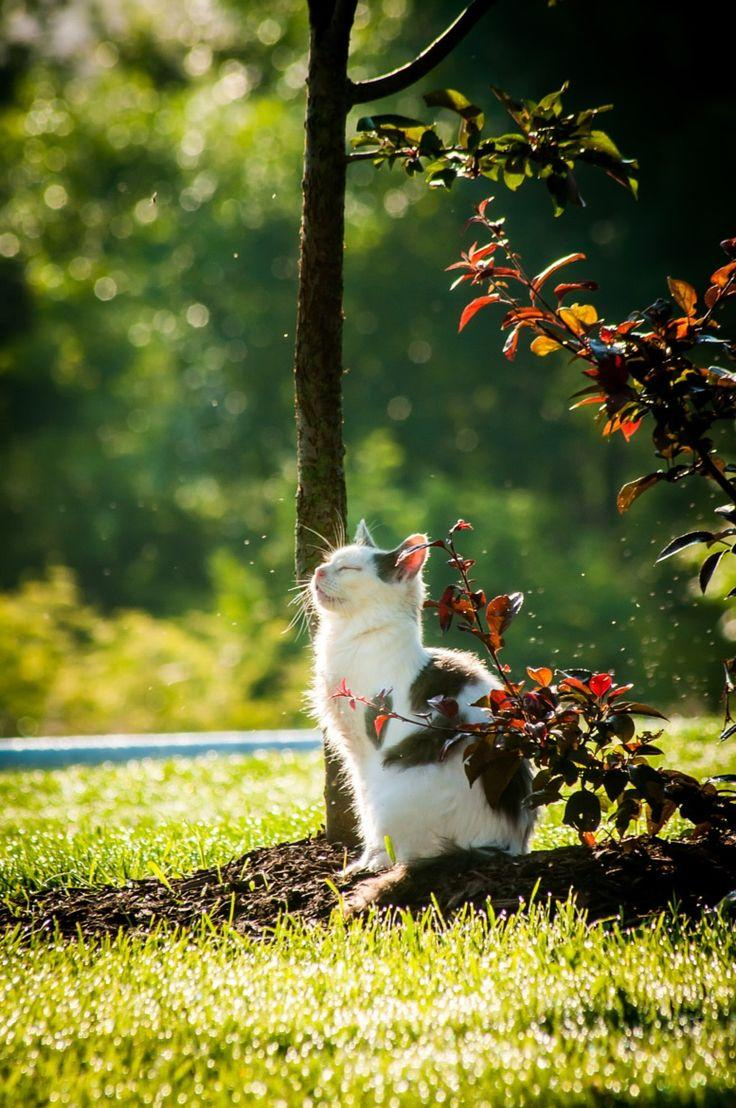kedo: (312, 520, 534, 871)
